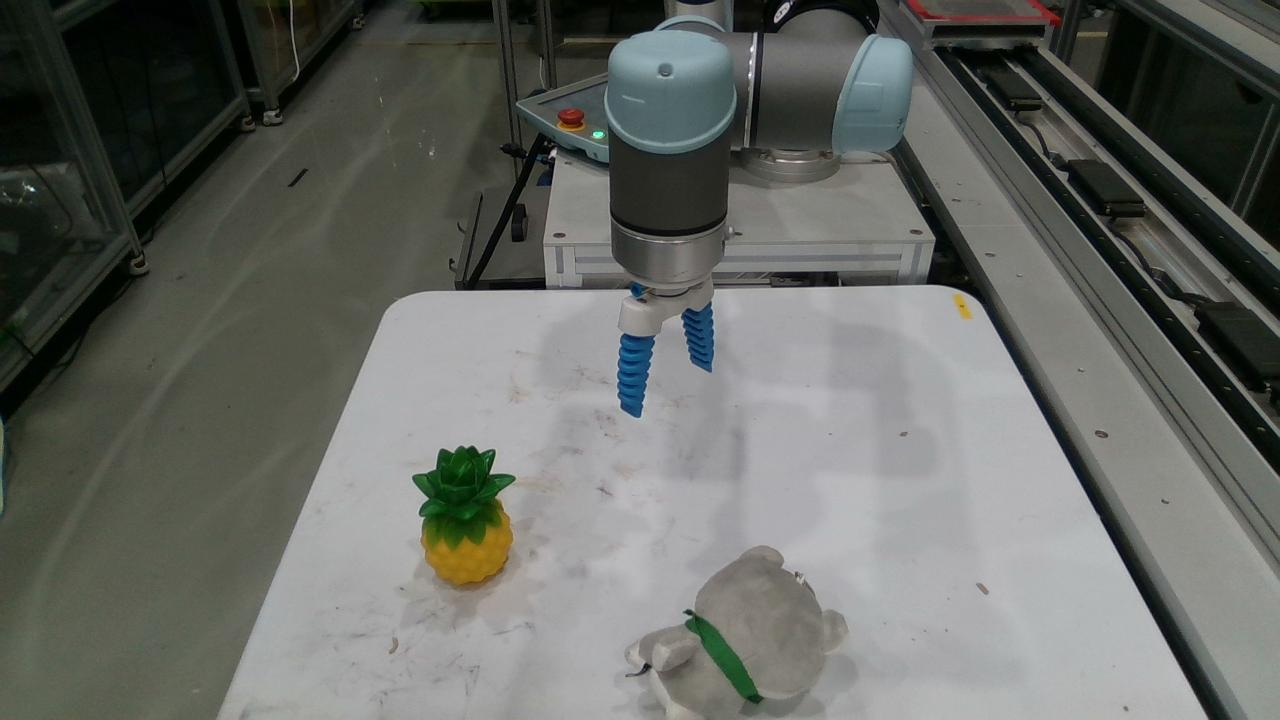UR5: (610, 0, 910, 335)
gripper_left: (618, 334, 652, 416)
gripper_right: (682, 304, 710, 369)
target: (628, 547, 846, 719), (414, 447, 510, 584)
